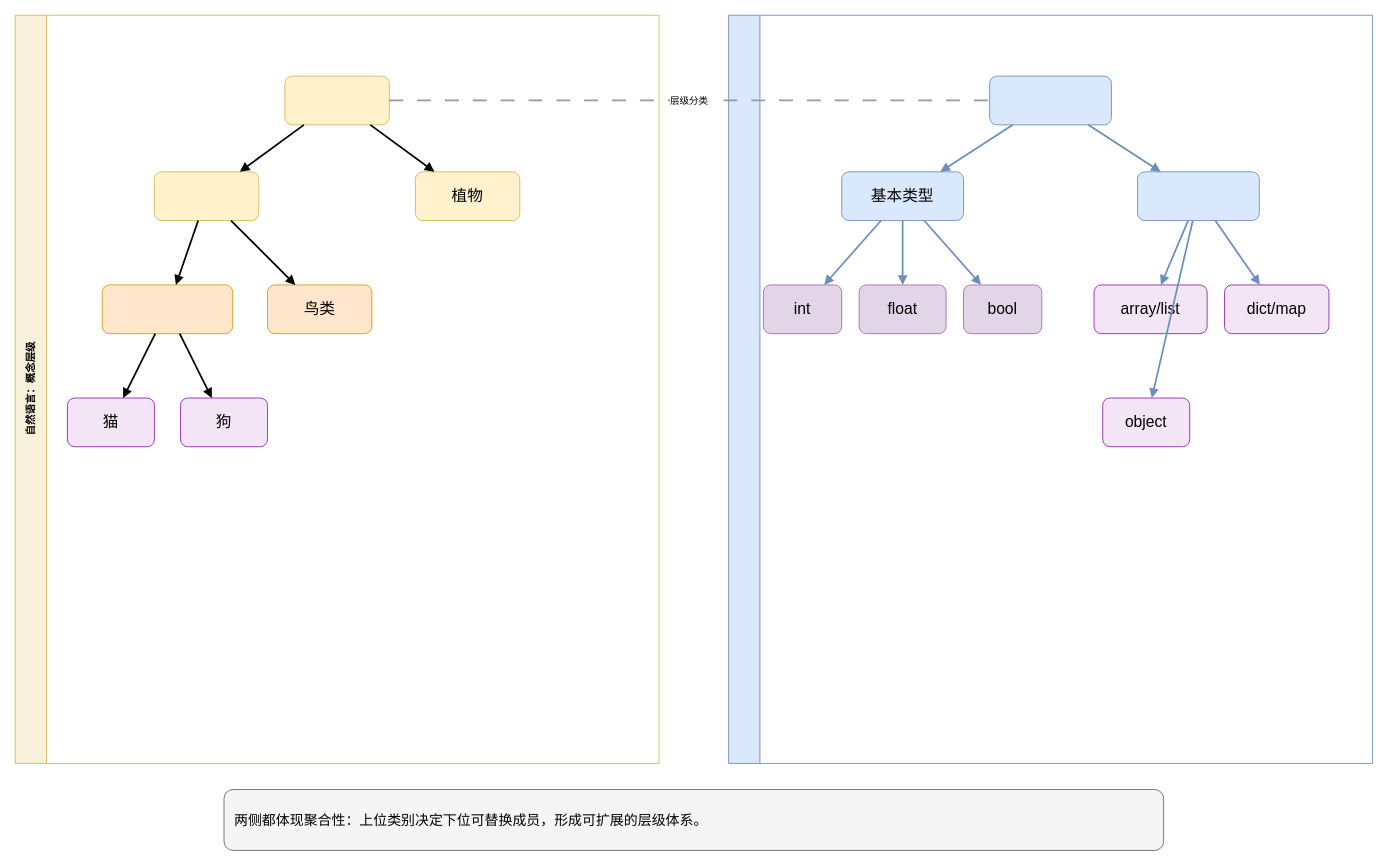
Some shapes in this 1388 by 866 pixel diagram are drawn without their labels. The shapes that lost their labels are listed below. From the top down, each one's box as (x1, y1, x2, y2) in pixels, then its label:
(284, 75, 389, 125): 生物
(989, 75, 1111, 125): 数据类型
(154, 171, 259, 221): 动物
(1137, 171, 1259, 221): 复合类型
(101, 284, 233, 334): 哺乳动物
(728, 14, 1372, 763): 程序语言：数据类型层级
